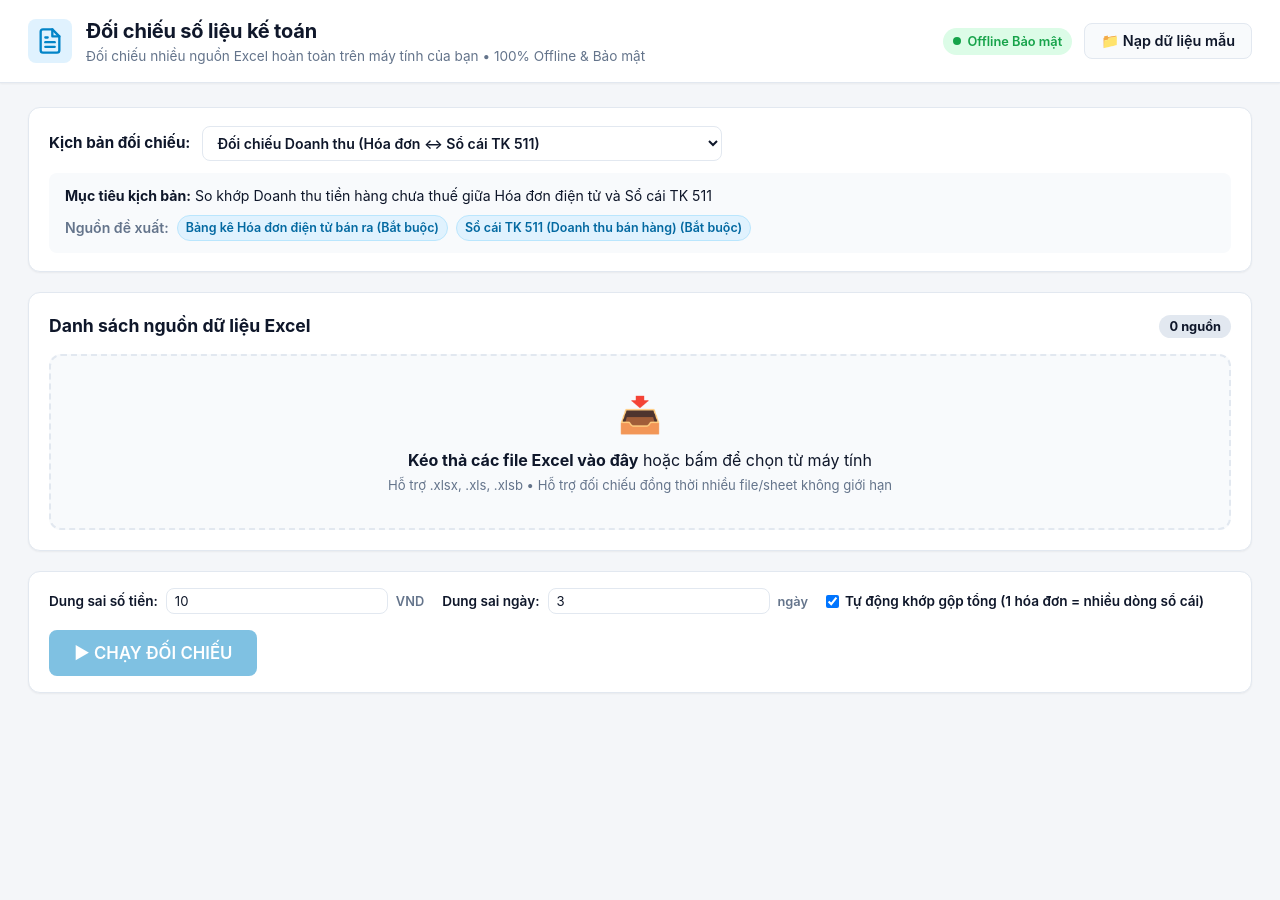
AppKetoan UI End-to-End Workflow › loads demo data and enables the 'CHẠY ĐỐI CHIẾU' button
The width and height of the screenshot is (1280, 900).
What coordinates should you click on to do the following:
click the button "📁 Nạp dữ liệu mẫu"
I would click on:
 (1168, 41)
Its box is x1=1084 y1=23 x2=1252 y2=59.
(page scrolled)
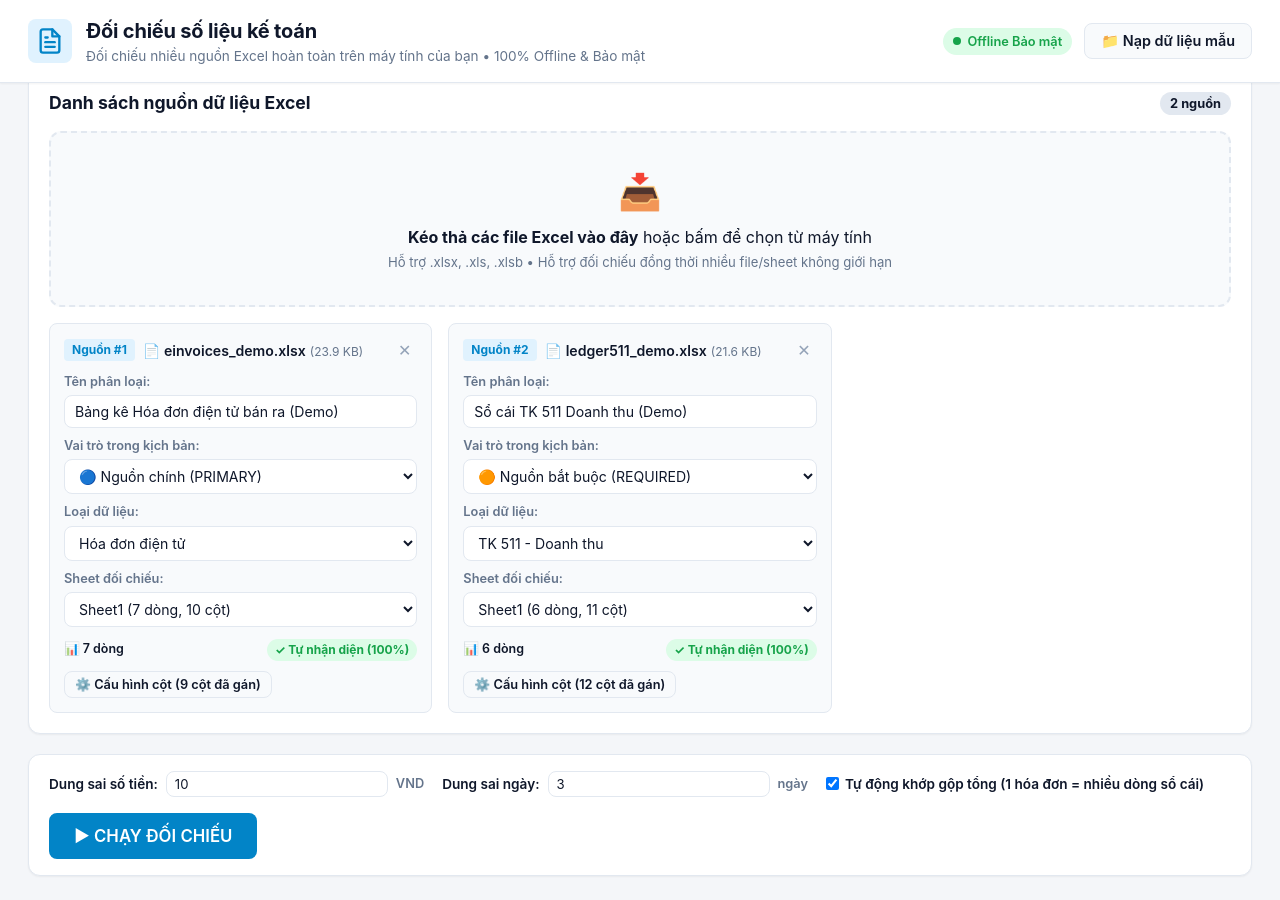
expect the text "Nguồn #1" is shown: met, box x1=64 y1=339 x2=135 y2=361
expect the text "Nguồn #2" is shown: met, box x1=463 y1=339 x2=536 y2=361
expect the text "2 nguồn" is shown: met, box x1=1160 y1=92 x2=1231 y2=115
